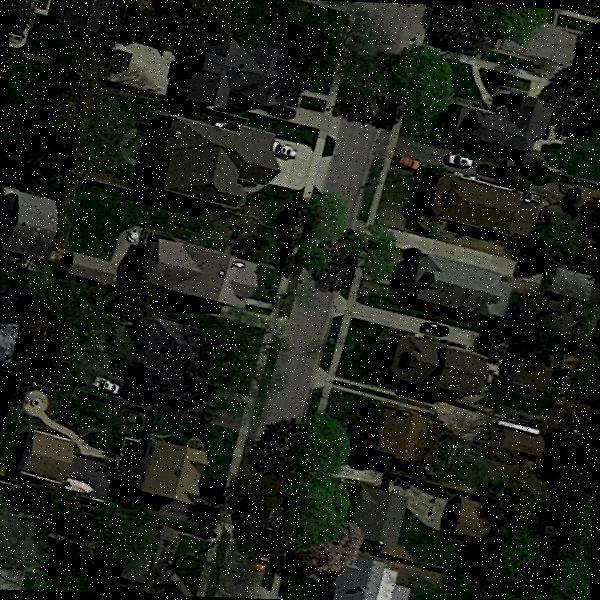Buildings: (395, 250, 517, 328), (140, 234, 262, 304), (420, 165, 544, 231), (378, 338, 498, 399), (161, 142, 263, 209), (126, 432, 205, 512), (456, 98, 542, 153), (338, 485, 410, 549), (2, 176, 59, 252), (320, 562, 416, 600), (23, 428, 78, 484), (373, 414, 434, 462), (448, 503, 490, 539)
